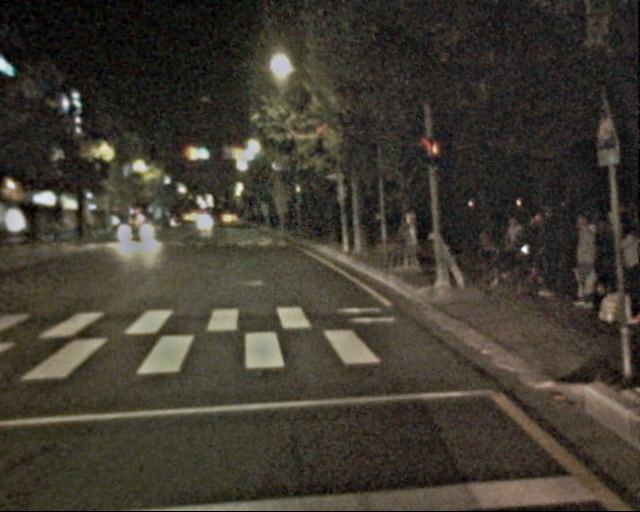person: (506, 209, 561, 295), (565, 216, 604, 311), (574, 207, 612, 300), (609, 214, 640, 325)
